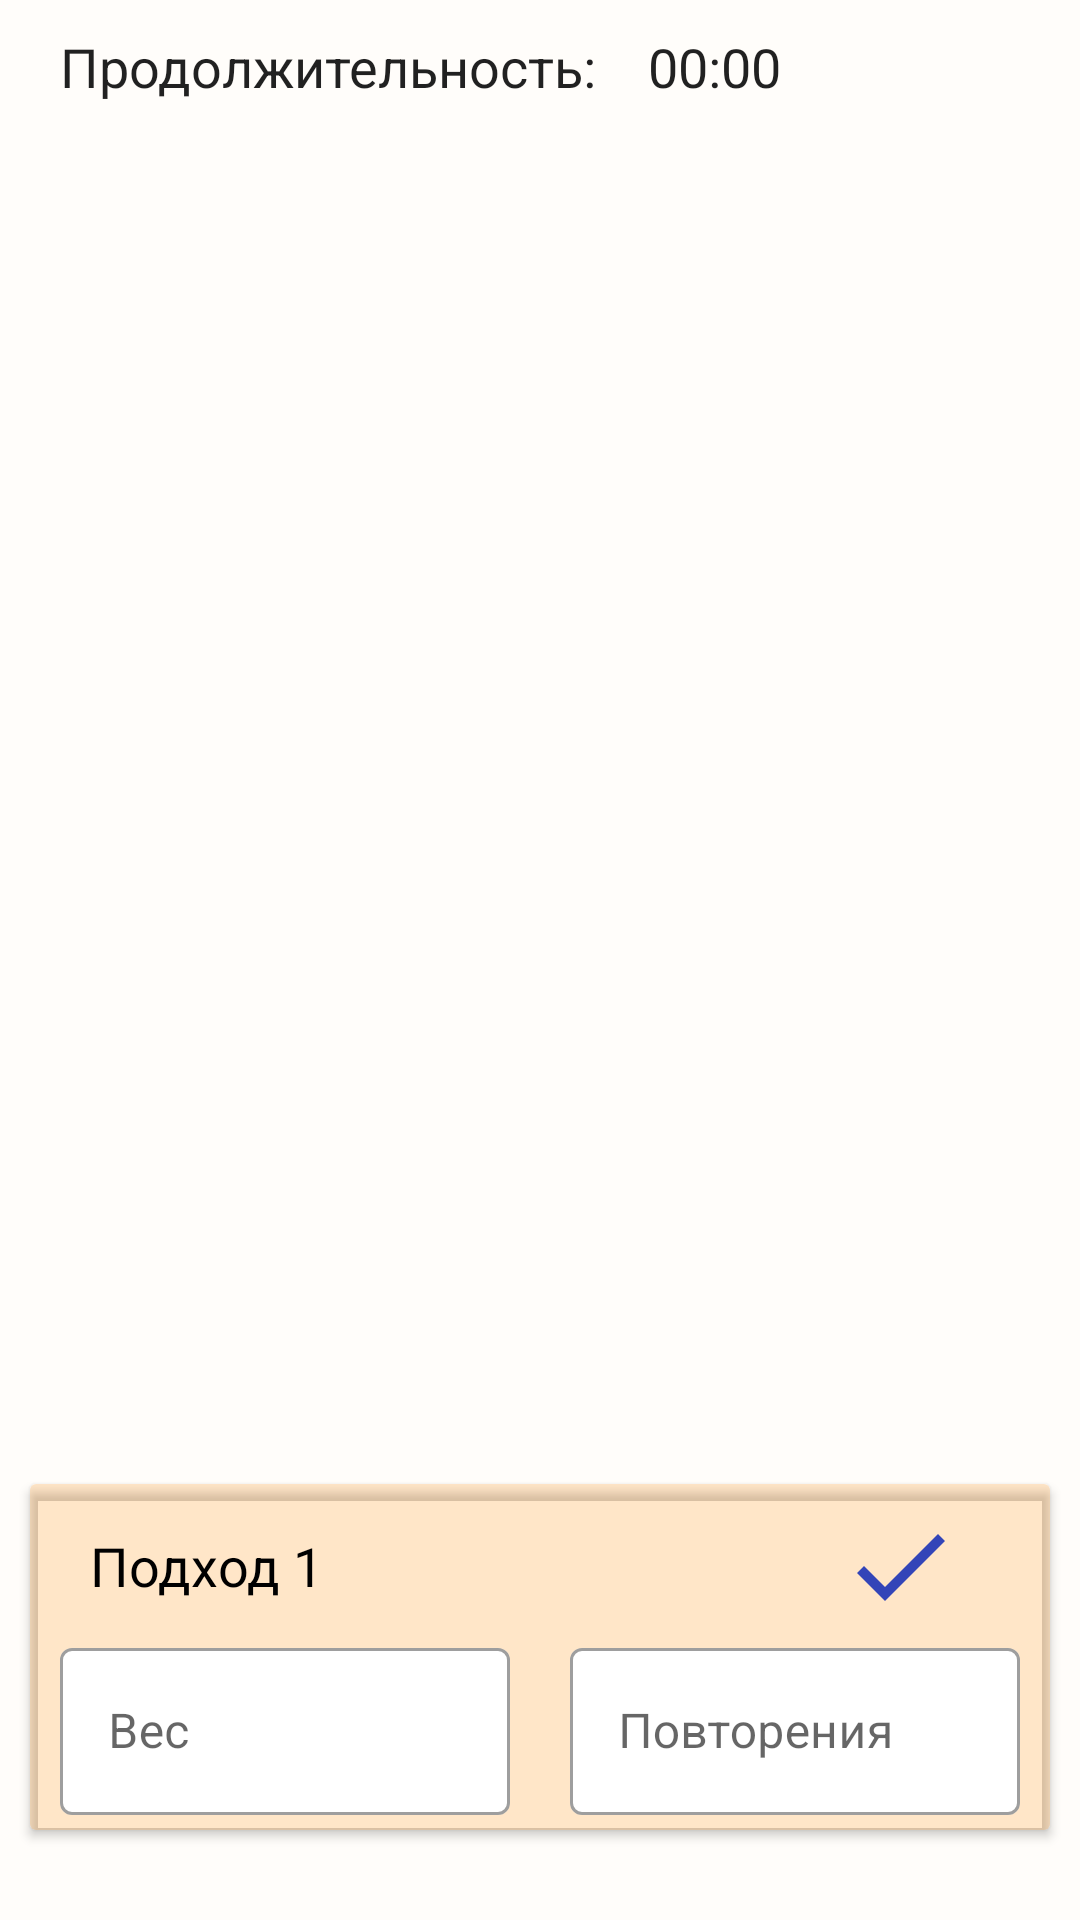

Icons on this 1080×1920 Android screen, each with its box as (x1, y1, x2, y2):
done: (857, 1534, 945, 1601)
